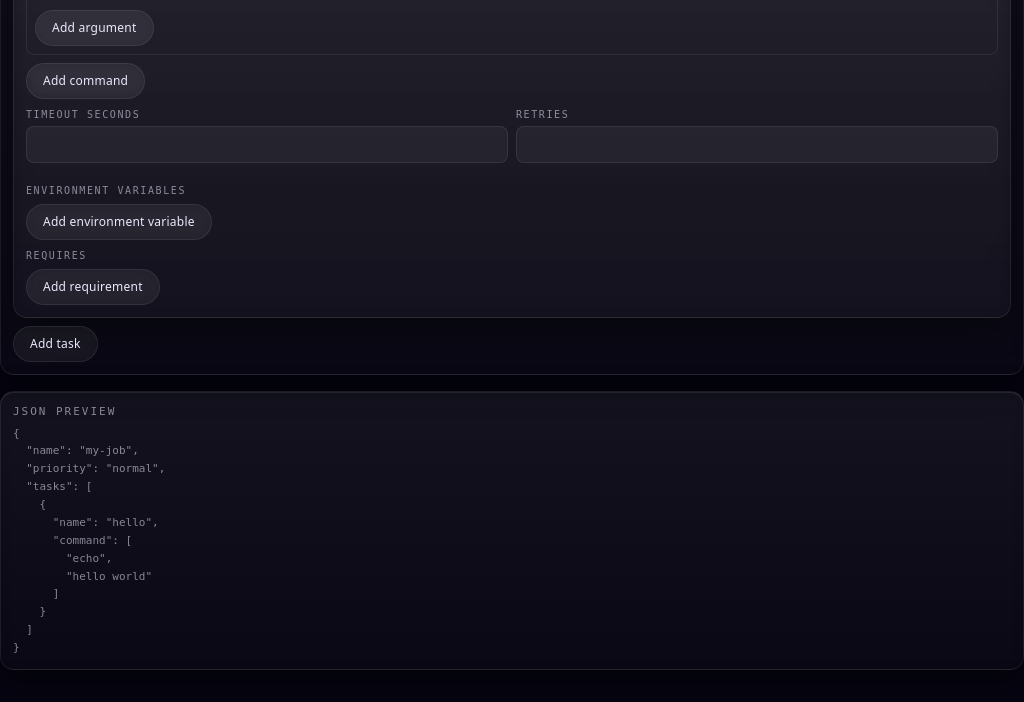
Test: removing both rows in one batching window focuses a surviving control, not the body
(page scrolled)
Click the button "Add task" at (55, 344), box [13, 326, 98, 362]
(page scrolled)
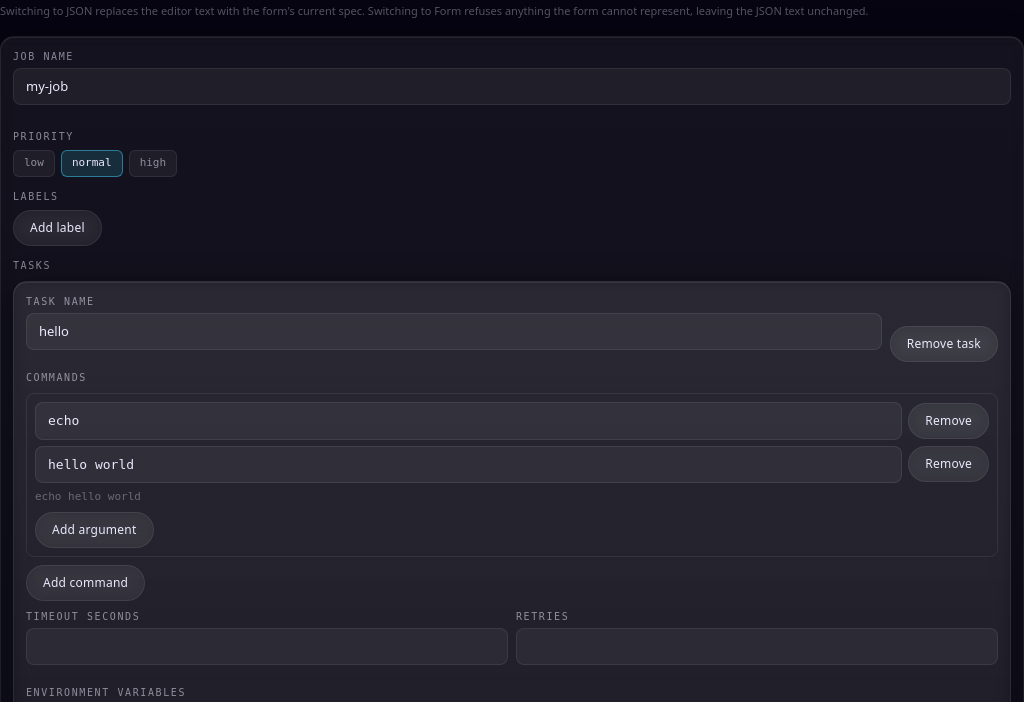
Click the button "Remove task" at (944, 344), box [890, 326, 998, 362]
(page scrolled)
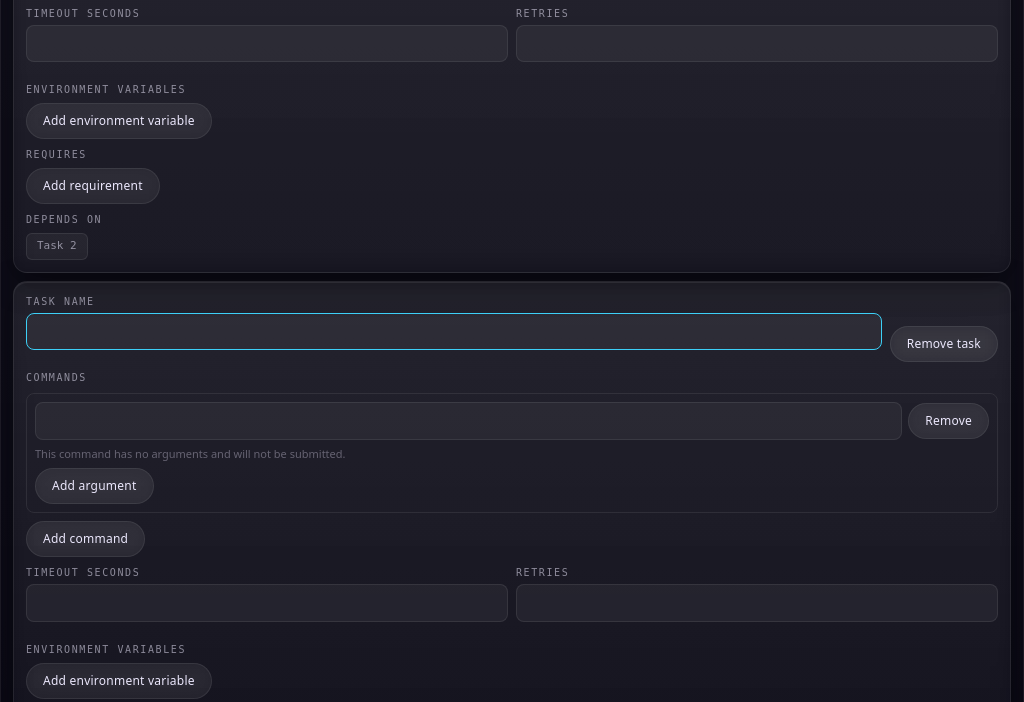
Click the button with aria-label "Remove task 2" at (944, 344), box [890, 326, 998, 362]
(page scrolled)
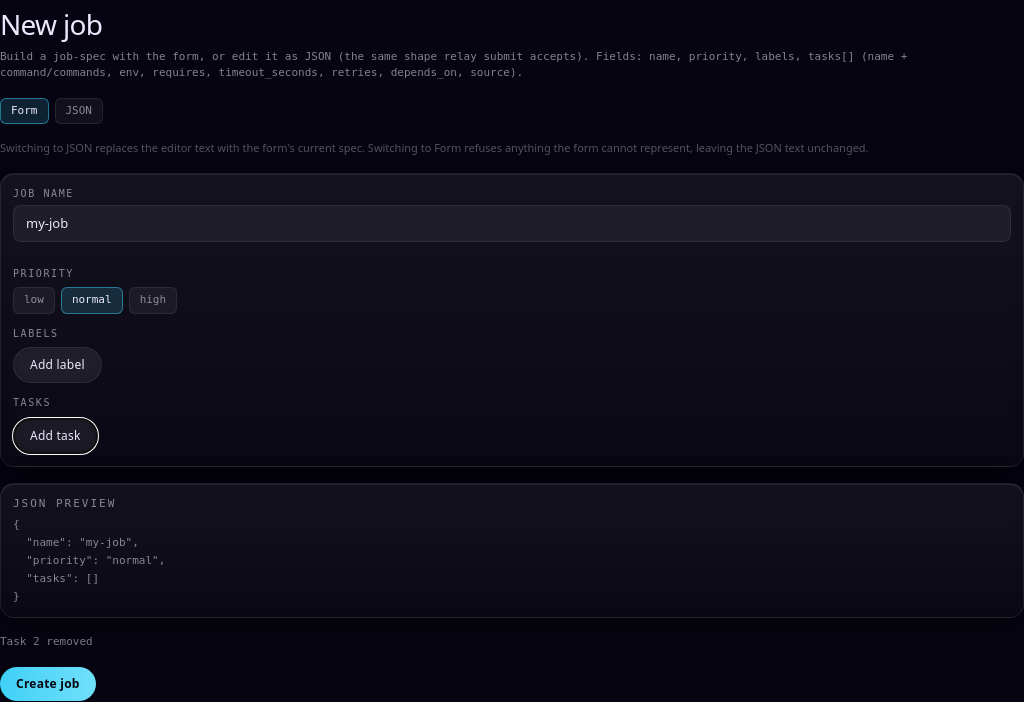
Result: the text named "Job spec preview" shows "\"tasks\": []" at [13, 518, 165, 602]
